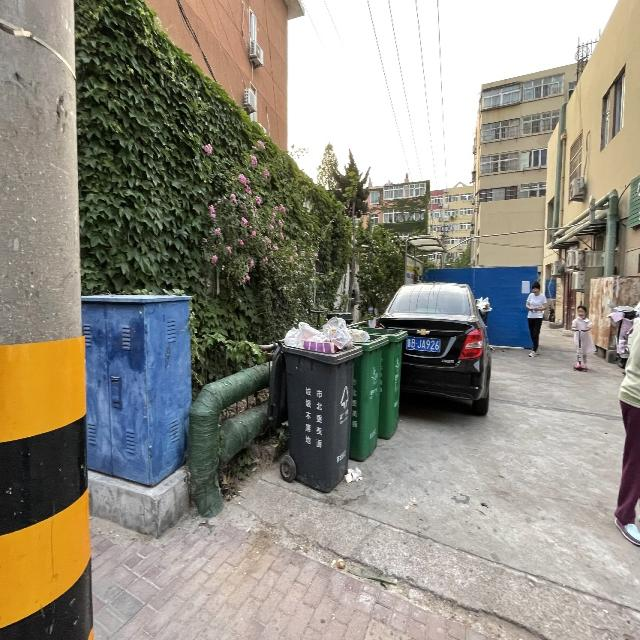garbage: (344, 464, 362, 482)
garbage_bin: (361, 326, 408, 438)
overflow: (266, 320, 362, 493), (347, 328, 388, 461)
